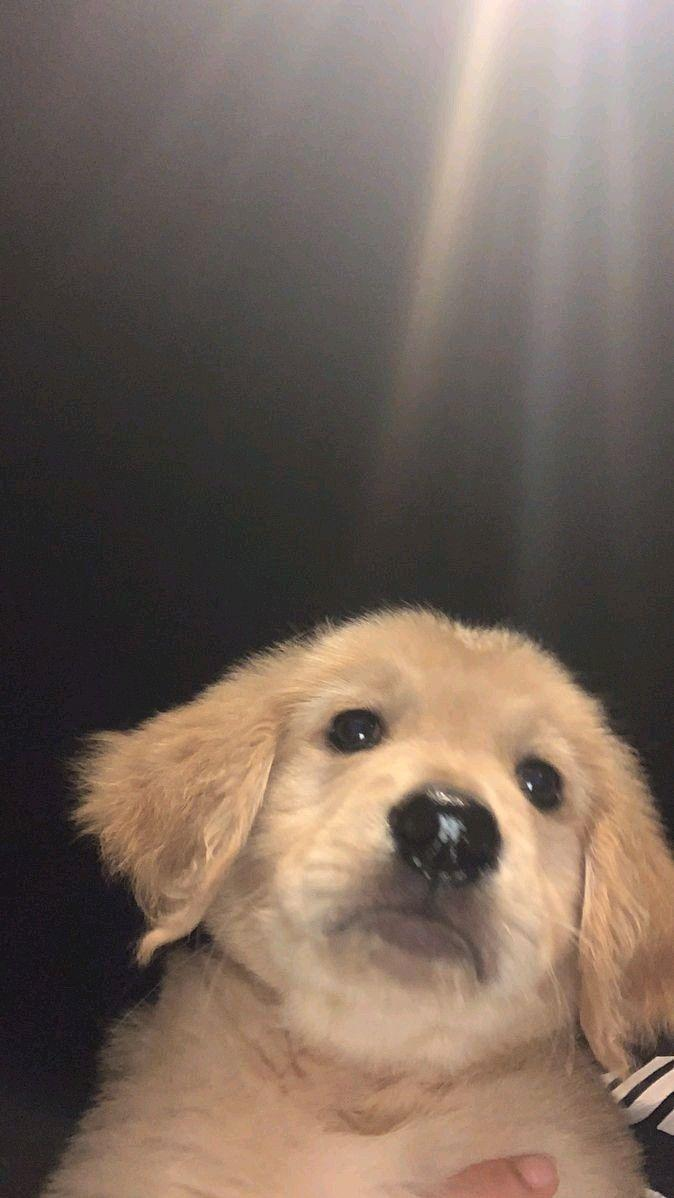puppy-dog: (36, 599, 674, 1198)
